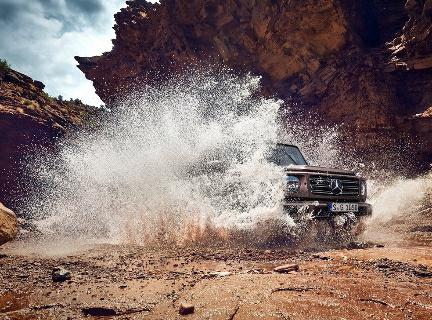奔驰-G级: (247, 139, 382, 250)
